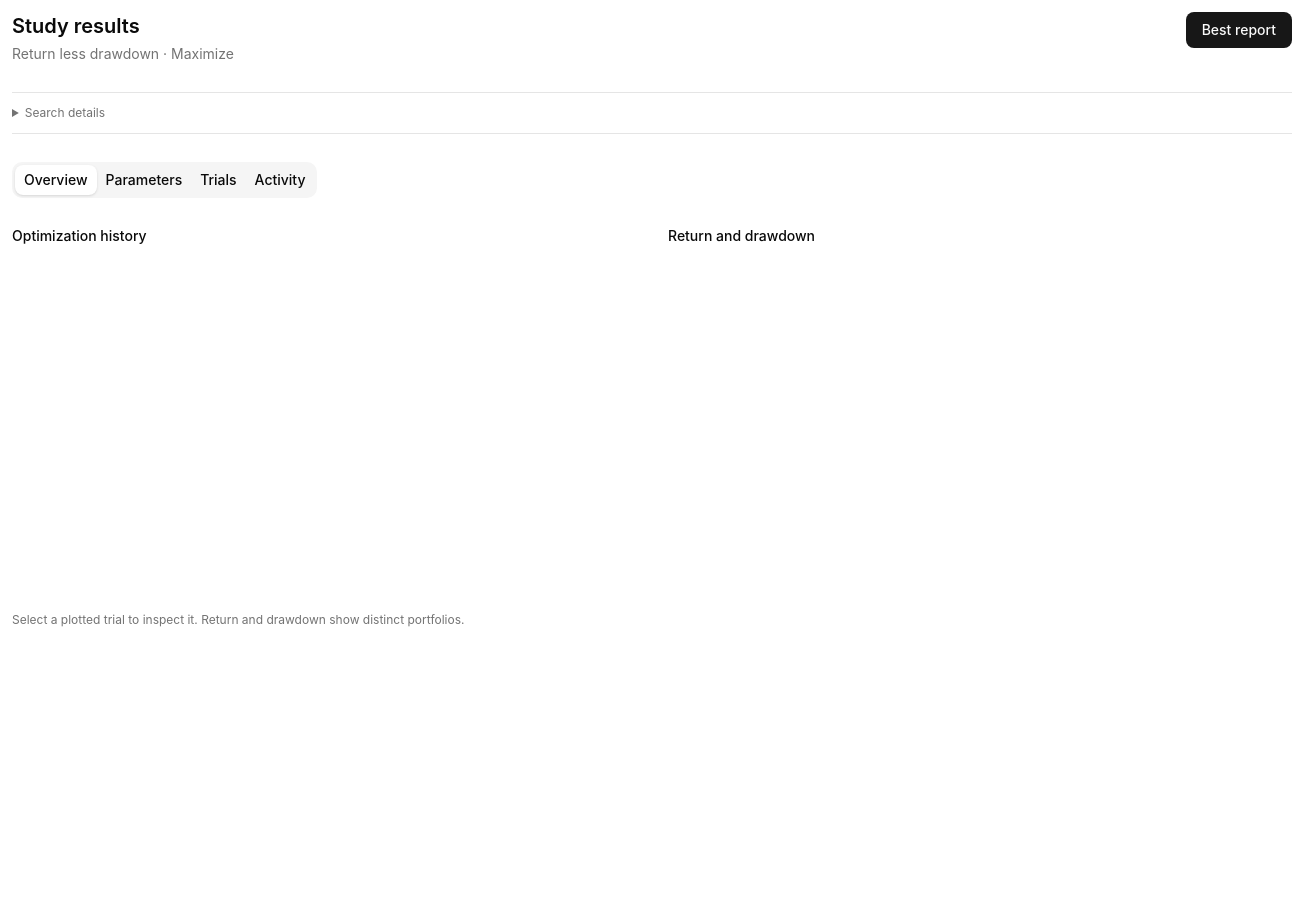
Test: connected study exploration › loads durable activity only on the Activity tab and retains the native timeline
The image size is (1304, 912).
Click the tab "Activity" at coordinates (280, 180), box [246, 165, 314, 195]
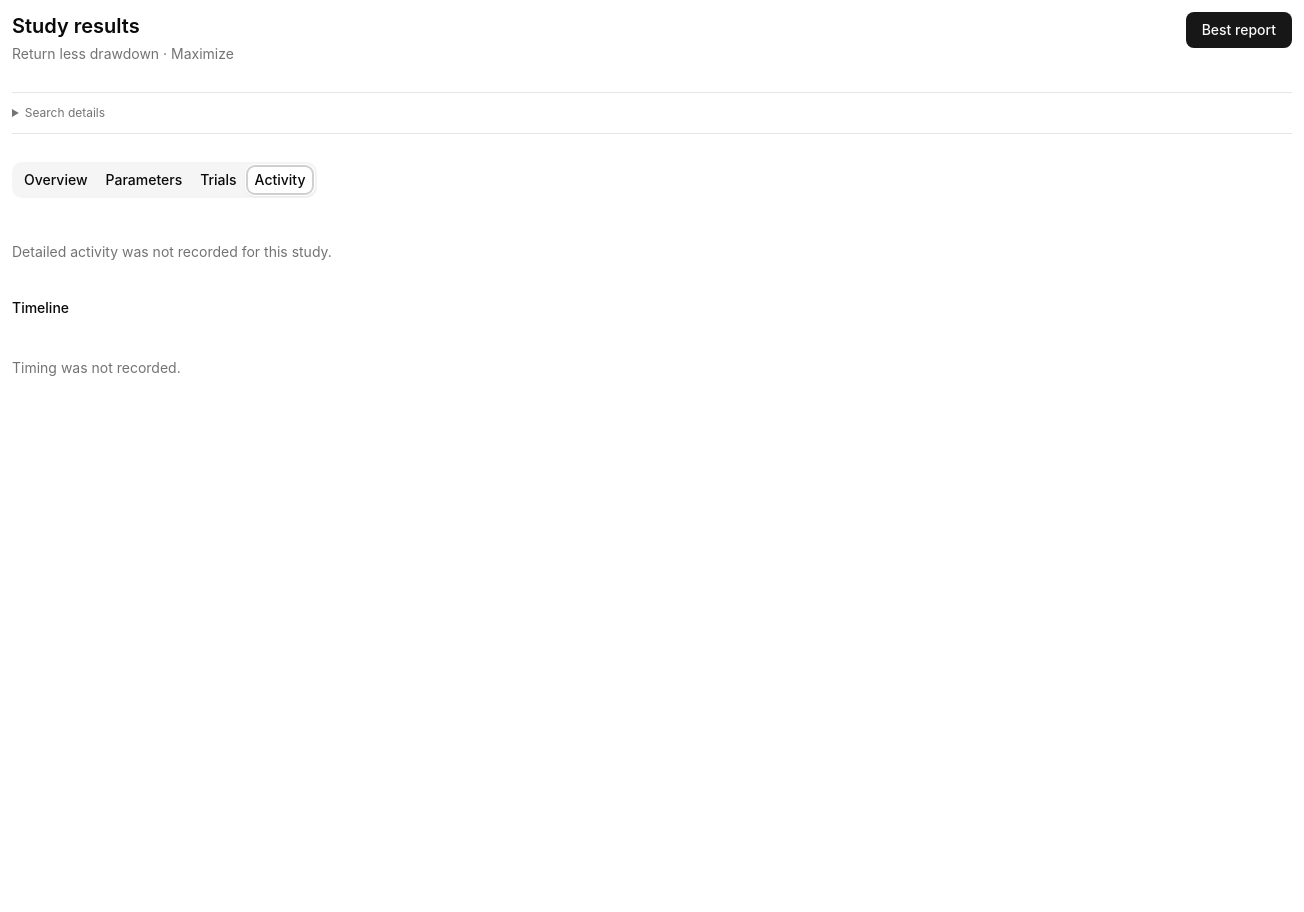
Expected: the text "Detailed activity was not recorded for this study." is shown, [12, 243, 332, 260]
Expected: the heading "Timeline" is shown, [12, 299, 69, 316]
Expected: the text "Timing was not recorded." is shown, [12, 359, 181, 376]
Click the tab "Overview" at coordinates (56, 180), box [15, 165, 96, 195]
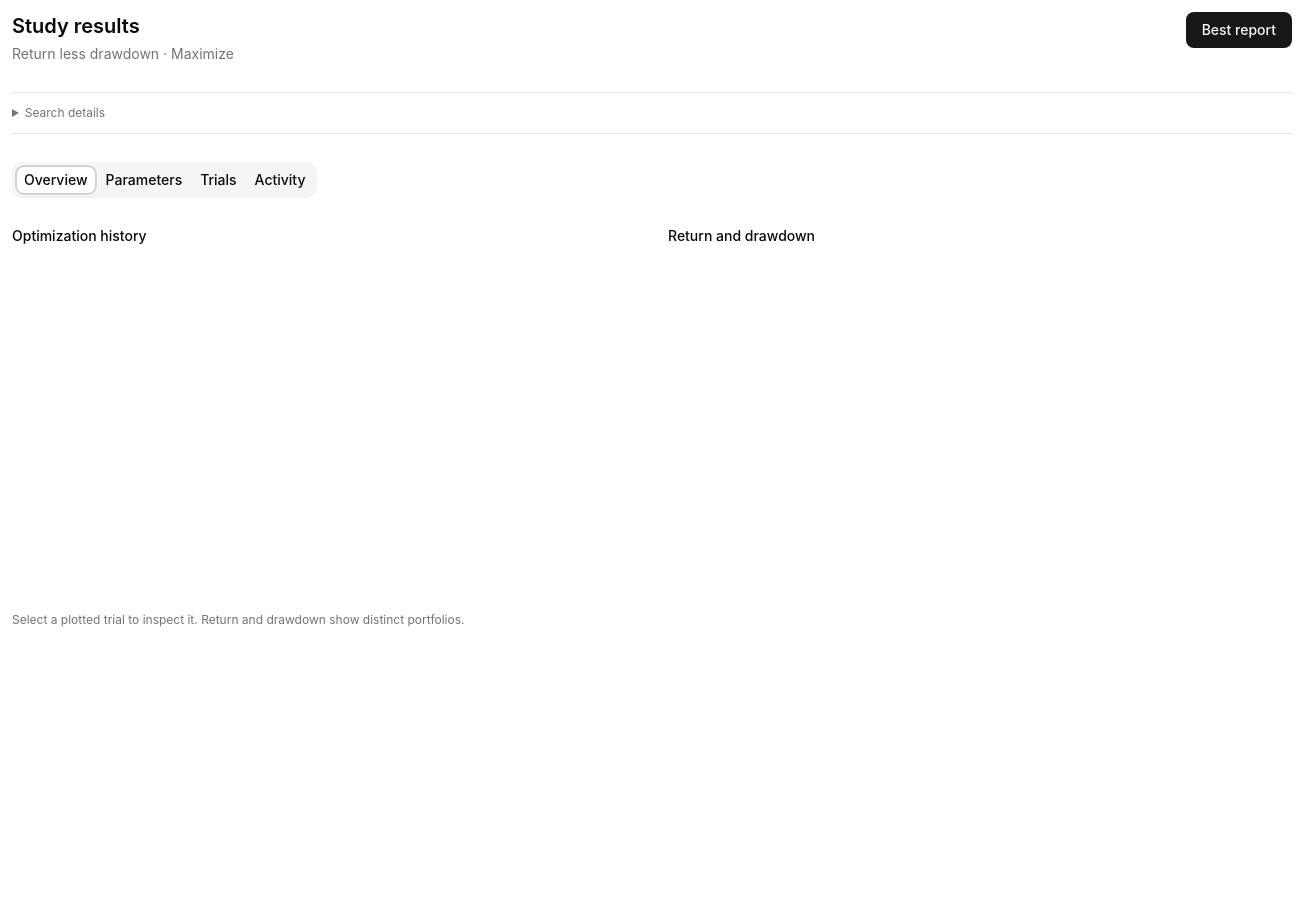
Expected: the text "Detailed activity was not recorded for this study." is gone
